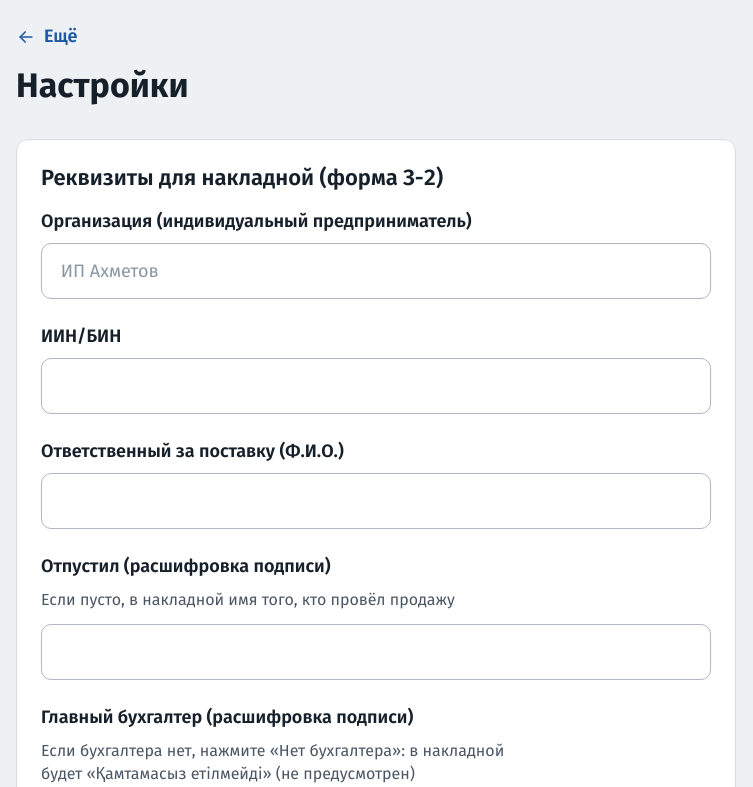
Test: SettingsPage › checks the ИИН/БИН before sending
Click the field labelled "ИИН/БИН": (376, 386) [41,358,711,414]
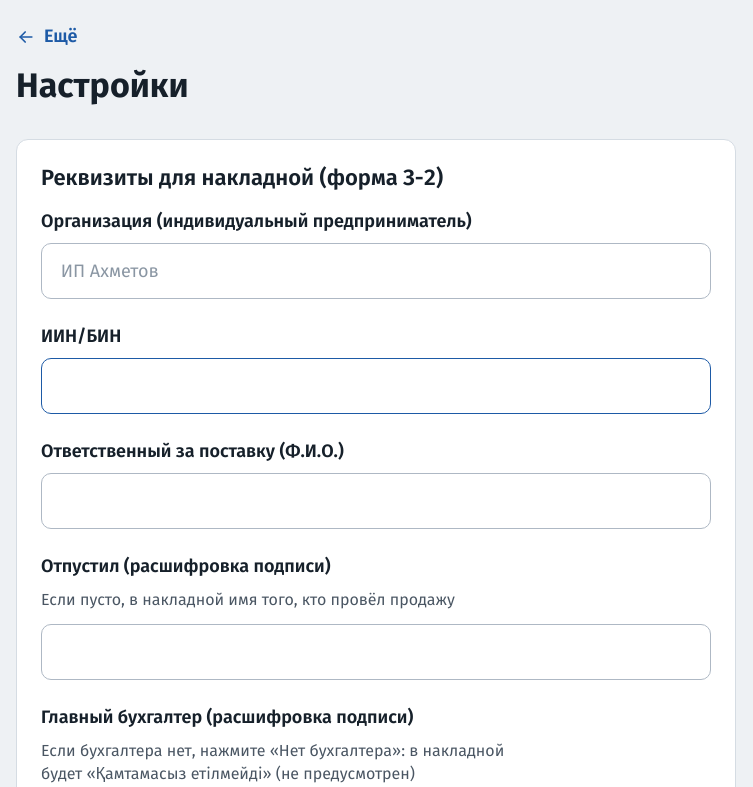
Type keys "12345"
(page scrolled)
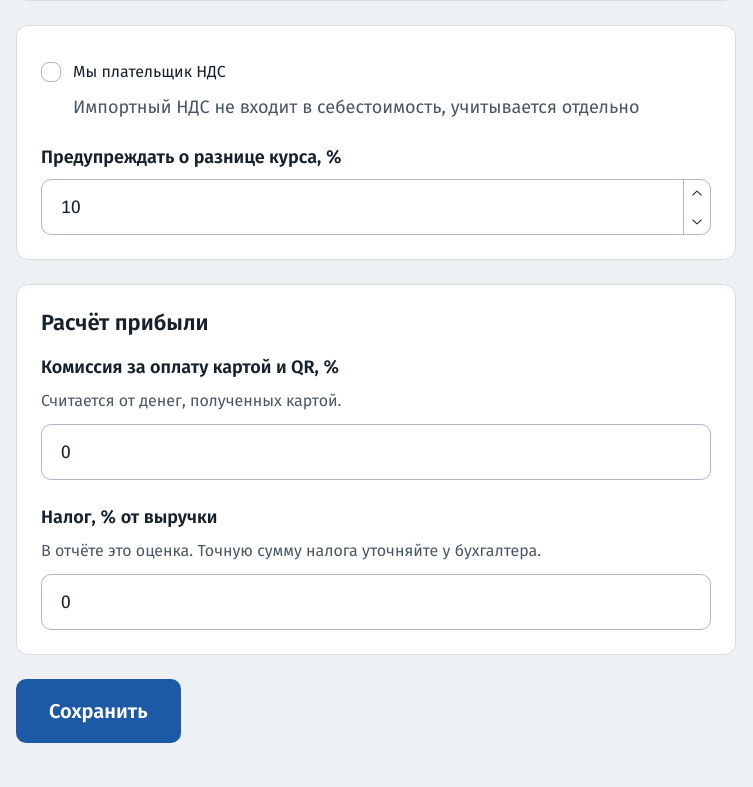
Click the button "Сохранить": (98, 711) [16,679,181,743]
(page scrolled)
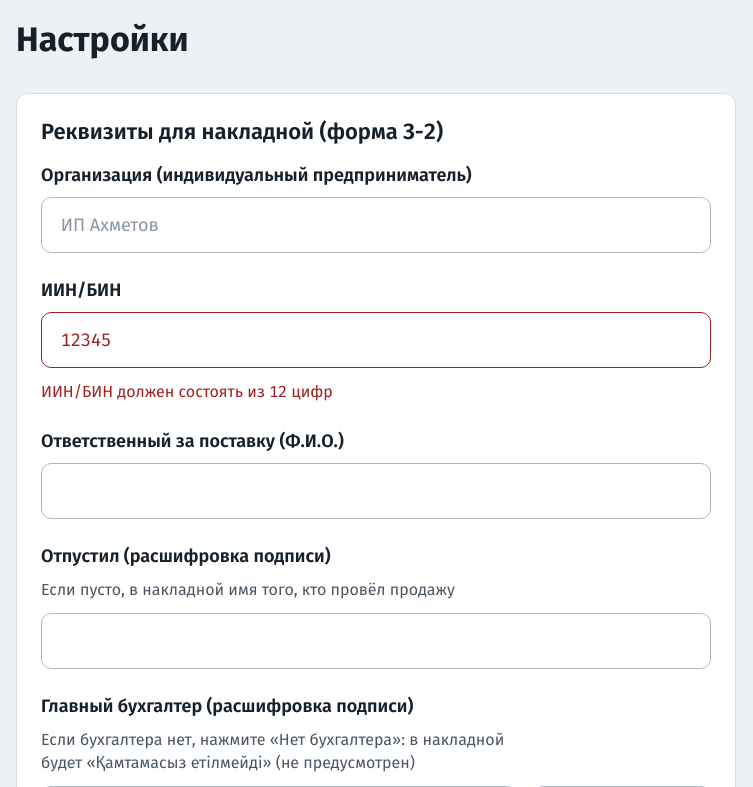
expect the text "ИИН/БИН должен состоять из 12 цифр" is shown: met, box [41,382,333,401]
